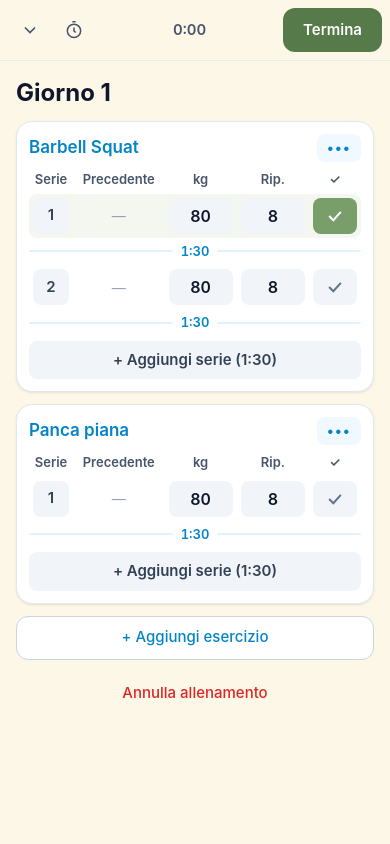
Test: WorkoutPage actions › shows the connection toast when a live edit gets no network
Click the 1st button "+ Aggiungi serie (1:30)".
click(195, 360)  # box [29,340,361,379]
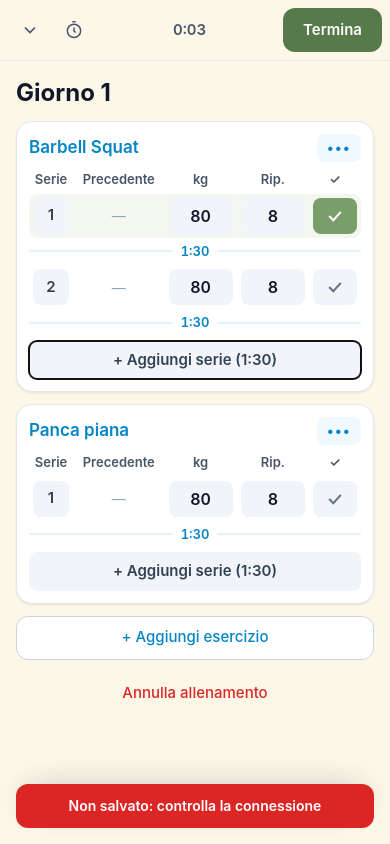
Result: the message reads "Non salvato: controlla la connessione" at [69,797,321,814]
